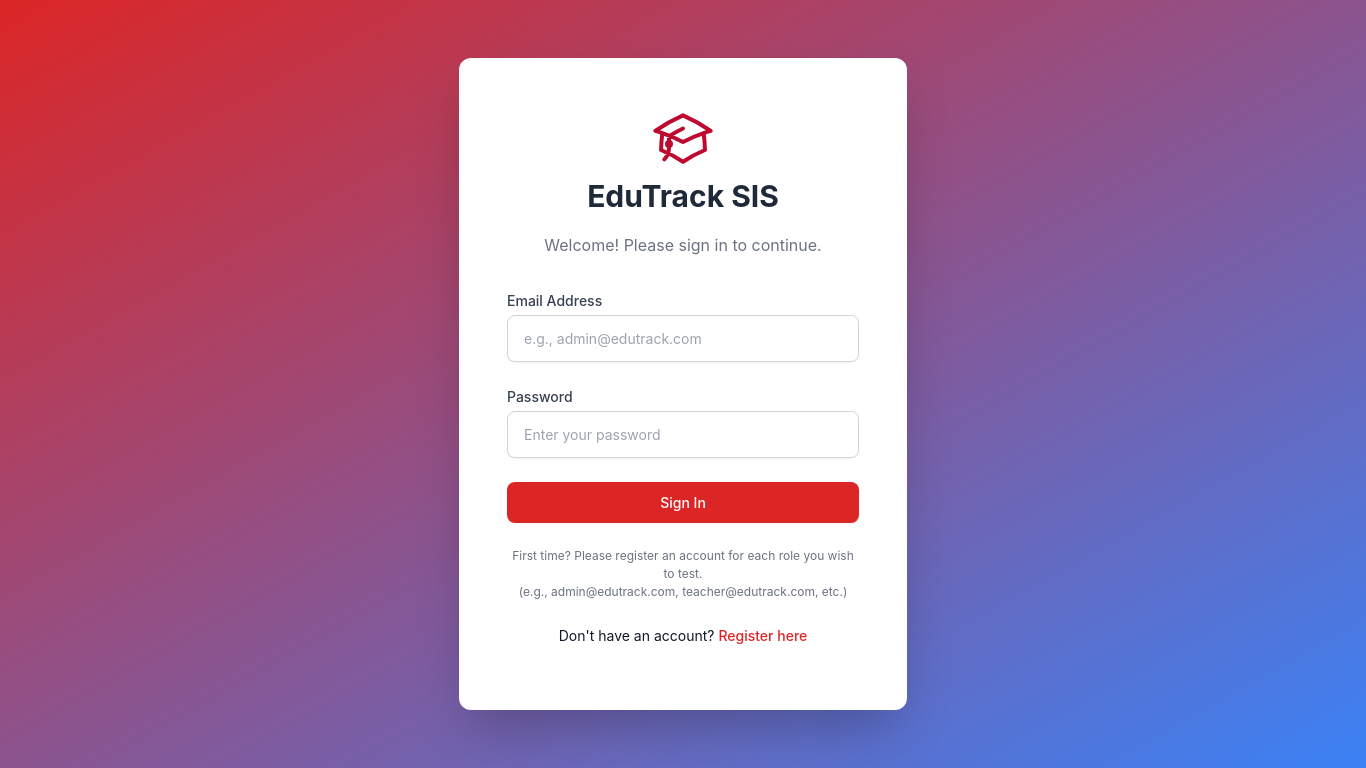
Test case: LoginScreen Component › Authentication Flow › shows loading state during authentication
Type "test@example.com" into the field labelled "Email Address" at [683, 338], box 507,315 -> 859,362
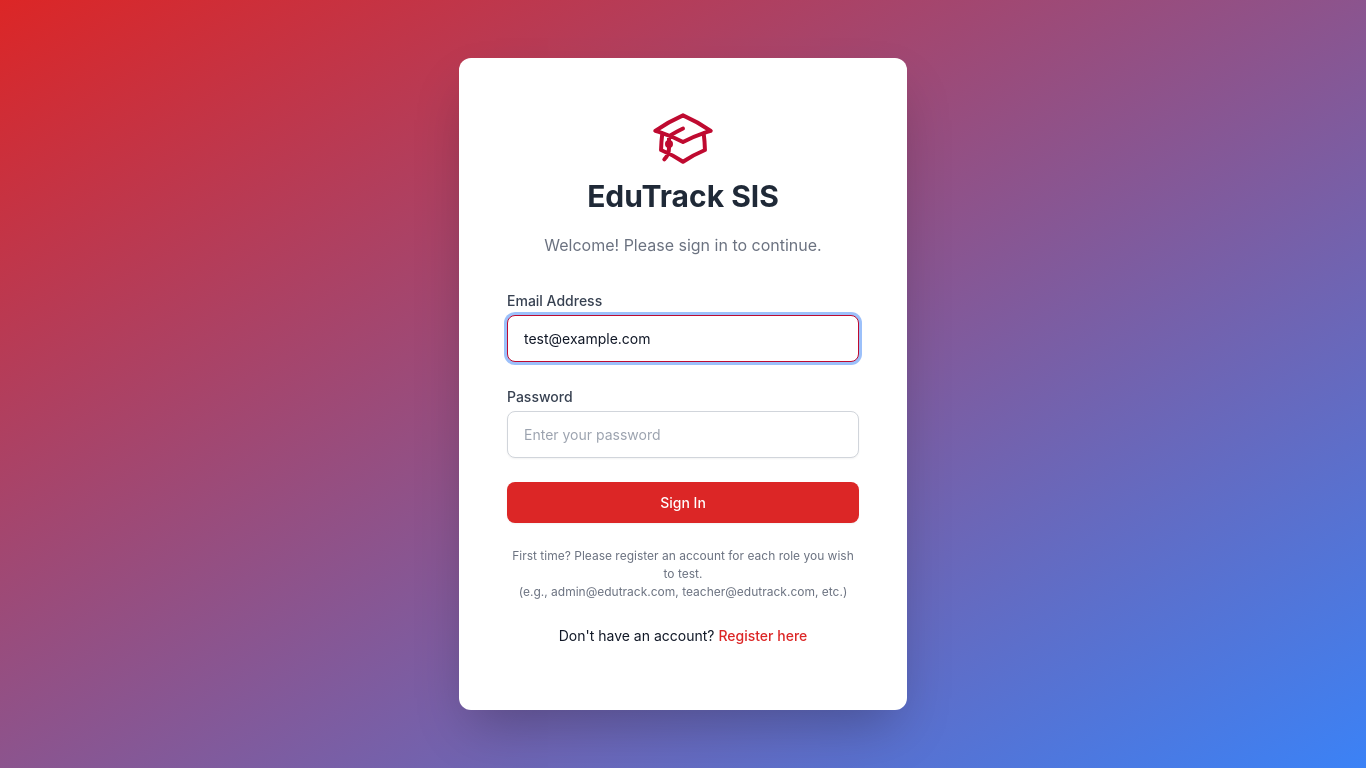
Type "password123" into the password field labelled "Password" at [683, 434], box 507,411 -> 859,458
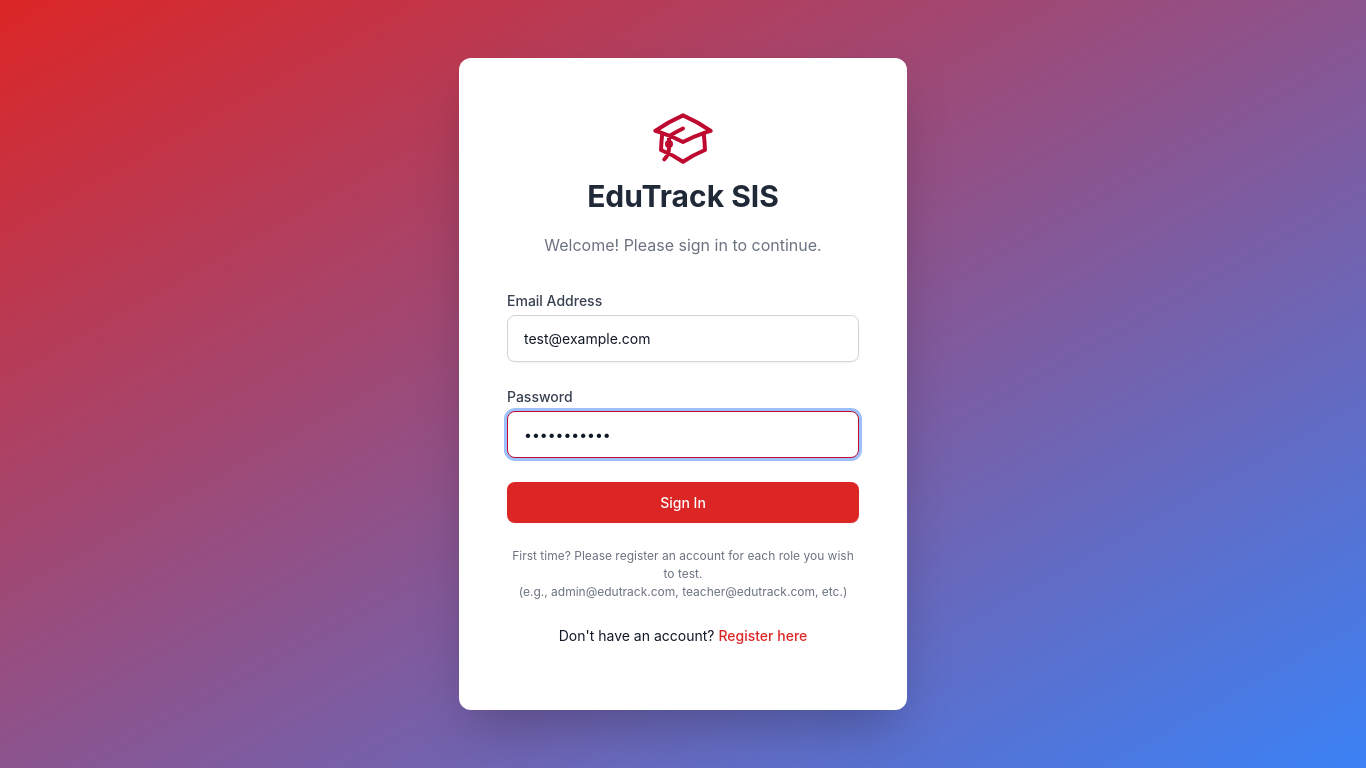
Click the button "Sign In" at [683, 502], box 507,482 -> 859,523
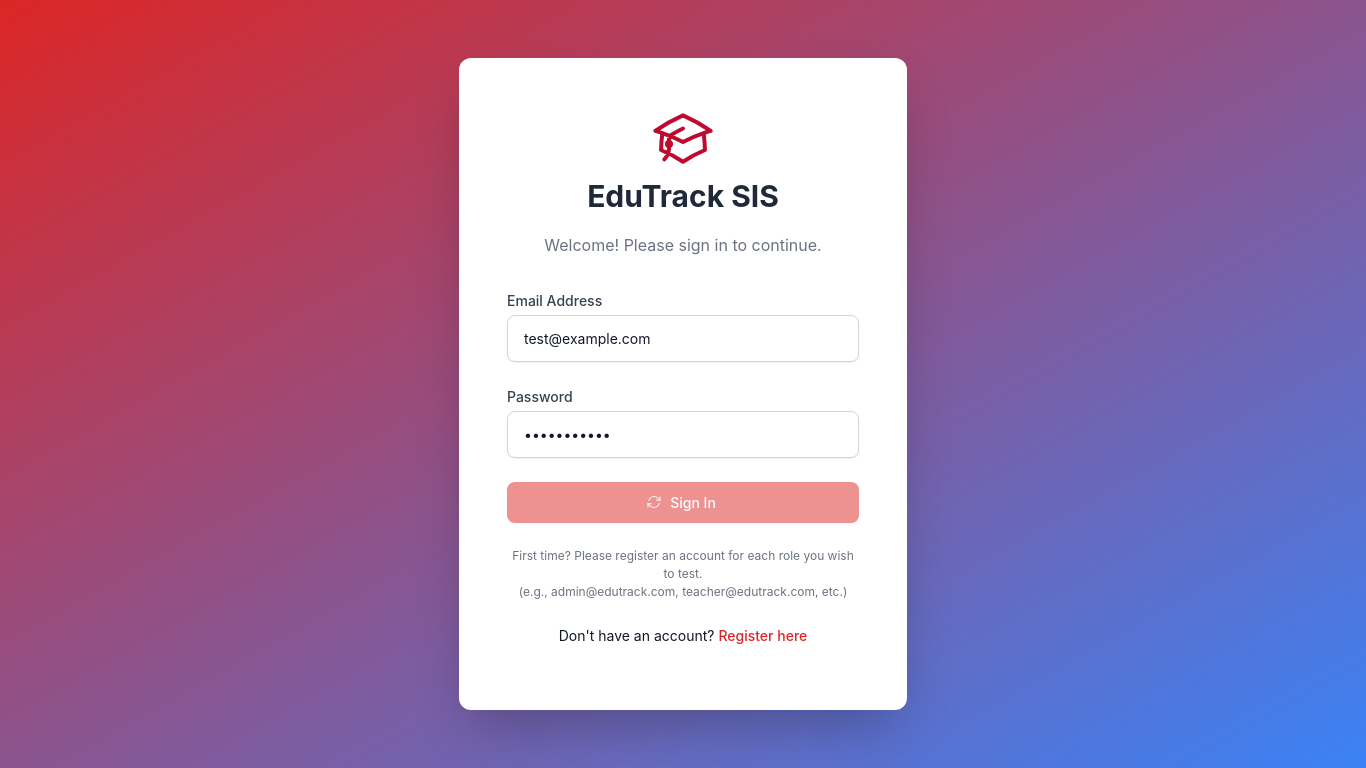
Check: the button "Sign In" is disabled, box 507,482 -> 859,523
